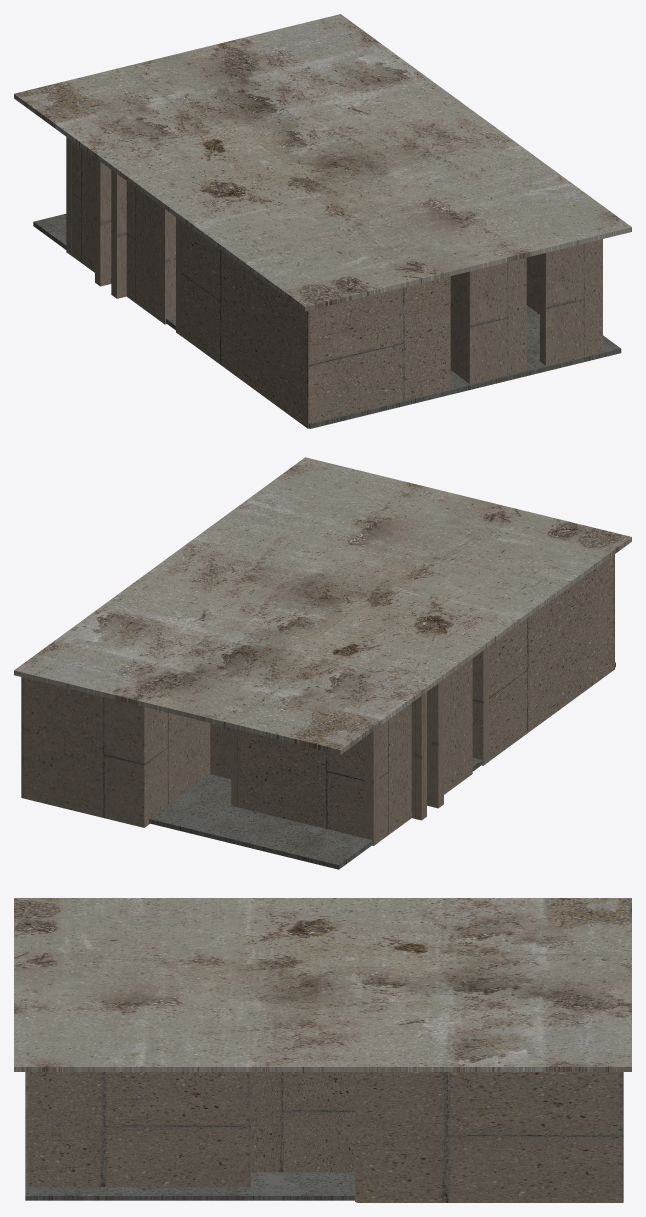
The model's file is lvl1phase1.dae.
3 renders of one model, top to bottom at view 1: azimuth 30°, elevation 25°; view 2: azimuth 150°, elevation 25°; view 3: azimuth 270°, elevation 25°, orthographic. The views are drawn at different scales.
Visible parts, largest first — view 1: floor; view 2: floor; view 3: floor.
Part boxes in pixels (x1,y1,x2,y2): floor: [14, 14, 631, 428]; floor: [14, 457, 631, 869]; floor: [14, 898, 631, 1202].
Bounding box in the file's own units: 154 × 238 × 58.36.
Materials: 28 (12 with a texture image).
